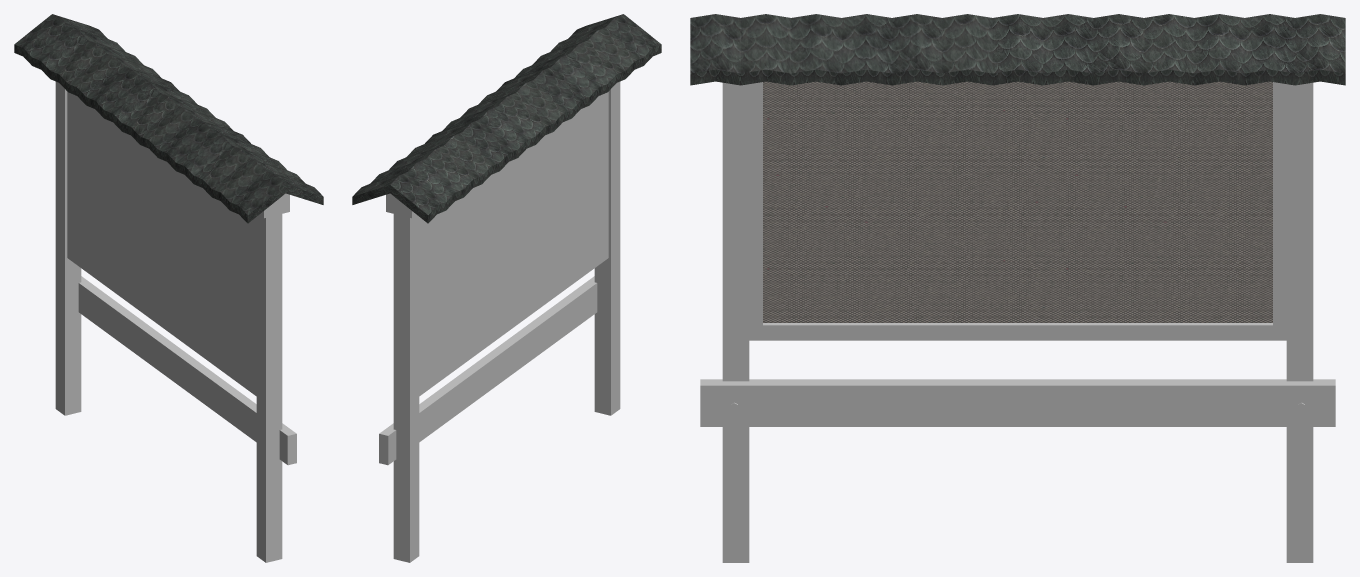
File: Board.fbx
3 renders of one model, left to right at view 1: azimuth 30°, elevation 25°; view 2: azimuth 150°, elevation 25°; view 3: azimuth 270°, elevation 25°, orthographic. The views are drawn at different scales.
Visible parts, largest first — view 1: Cube.002, Cube.004, Cube, Cube.001, Cube.003; view 2: Cube.002, Cube.004, Cube, Cube.001, Cube.003; view 3: Plane, Cube.004, Cube.001, Cube, Cube.002.
Boxes of the visible parts, bbox=[...] form: Cube.002: bbox=[67, 92, 256, 396]; Cube.004: bbox=[14, 14, 323, 223]; Cube: bbox=[55, 81, 282, 562]; Cube.001: bbox=[78, 276, 296, 465]; Cube.003: bbox=[259, 193, 289, 218]; Cube.002: bbox=[419, 92, 608, 396]; Cube.004: bbox=[352, 14, 661, 223]; Cube: bbox=[393, 81, 620, 562]; Cube.001: bbox=[379, 276, 597, 465]; Cube.003: bbox=[386, 193, 416, 218]; Plane: bbox=[763, 81, 1272, 322]; Cube.004: bbox=[690, 14, 1345, 85]; Cube.001: bbox=[700, 379, 1335, 426]; Cube: bbox=[722, 82, 1313, 562]; Cube.002: bbox=[749, 82, 1286, 340].
Bounding box in the file's own units: 69.11 × 337 × 369.
